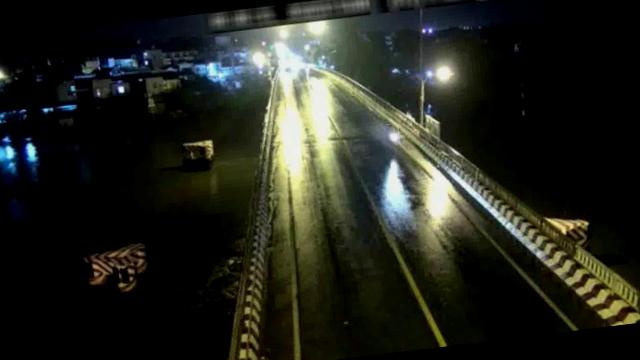Bike: (386, 122, 401, 153)
